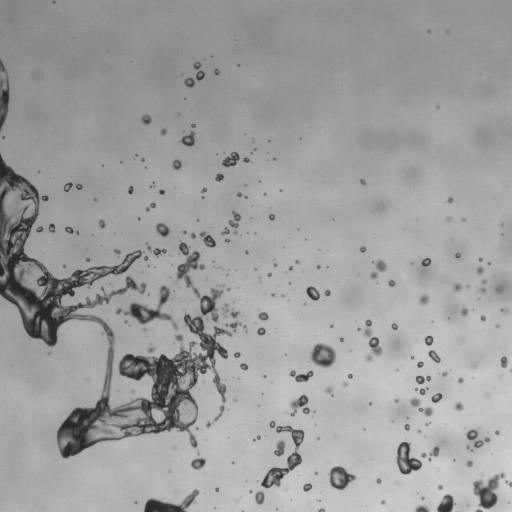droplet: (395, 440, 422, 474), (308, 342, 336, 368), (328, 466, 356, 490), (285, 394, 310, 417), (435, 493, 456, 511), (369, 259, 387, 279), (221, 151, 239, 167), (420, 446, 439, 461), (178, 131, 195, 146), (273, 438, 285, 457), (154, 222, 169, 237), (306, 286, 320, 301), (190, 457, 205, 470), (428, 350, 441, 363), (254, 490, 265, 505), (477, 278, 487, 294), (257, 307, 268, 321), (414, 386, 429, 395), (418, 293, 429, 305), (431, 393, 443, 404), (172, 159, 183, 170), (206, 178, 217, 189), (154, 236, 165, 247), (193, 238, 204, 249), (187, 240, 198, 251), (167, 243, 178, 254), (365, 249, 376, 260), (111, 254, 122, 265), (52, 268, 63, 279), (60, 268, 71, 279), (378, 270, 389, 281), (213, 273, 224, 284), (114, 274, 125, 285), (263, 278, 274, 289), (86, 286, 97, 297), (126, 289, 137, 300), (60, 294, 71, 305), (135, 294, 146, 305), (91, 304, 102, 315), (188, 306, 199, 317), (172, 310, 183, 321), (467, 310, 478, 321), (203, 323, 214, 334), (55, 324, 66, 335), (178, 324, 189, 335), (215, 334, 226, 345), (326, 337, 337, 348), (311, 363, 322, 374), (297, 381, 308, 392), (419, 395, 430, 406), (84, 398, 95, 409), (143, 431, 154, 442), (281, 431, 292, 442), (283, 443, 294, 454), (186, 448, 197, 459), (276, 456, 287, 467), (158, 492, 169, 503), (431, 494, 442, 505), (171, 495, 182, 506), (141, 114, 151, 125), (421, 257, 431, 267), (453, 282, 463, 292), (146, 342, 155, 353), (324, 386, 333, 397), (257, 327, 269, 335), (500, 356, 508, 368), (220, 226, 230, 235), (424, 335, 433, 345), (454, 401, 463, 411), (302, 483, 312, 492), (214, 173, 223, 182), (494, 285, 503, 294), (187, 68, 196, 77), (204, 69, 213, 78), (3, 157, 12, 166), (219, 165, 228, 174), (152, 193, 161, 202), (54, 223, 63, 232), (182, 234, 191, 243), (22, 245, 31, 254), (177, 254, 186, 263), (78, 261, 87, 270), (186, 267, 195, 276), (485, 282, 494, 291), (468, 287, 477, 296), (213, 298, 222, 307), (148, 301, 157, 310), (159, 304, 168, 313), (128, 315, 137, 324), (191, 333, 200, 342), (320, 336, 329, 345), (112, 353, 121, 362), (423, 356, 432, 365), (435, 362, 444, 371), (418, 367, 427, 376), (204, 369, 213, 378), (332, 384, 341, 393), (113, 248, 121, 258), (443, 196, 453, 203), (48, 223, 55, 233), (461, 306, 468, 316), (134, 505, 145, 511), (184, 505, 195, 511), (254, 505, 265, 511), (377, 505, 388, 511), (476, 266, 484, 274), (240, 362, 248, 370), (98, 219, 105, 228), (500, 307, 509, 314), (438, 371, 448, 377), (160, 127, 167, 135), (388, 279, 395, 287), (457, 337, 465, 344), (272, 258, 278, 267), (391, 323, 398, 330), (470, 361, 477, 368), (466, 460, 473, 467), (7, 96, 14, 103), (3, 117, 10, 124), (236, 158, 243, 165), (13, 167, 20, 174), (154, 183, 161, 190), (139, 210, 146, 217), (31, 221, 38, 228), (42, 222, 49, 229), (139, 244, 146, 251), (147, 251, 154, 258), (36, 255, 43, 262), (381, 255, 388, 262), (479, 260, 486, 267), (204, 262, 211, 269), (385, 262, 392, 269), (266, 264, 273, 271), (369, 264, 376, 271), (170, 267, 177, 274), (123, 269, 130, 276), (376, 270, 383, 277), (119, 271, 126, 278), (480, 271, 487, 278), (476, 273, 483, 280), (178, 277, 185, 284), (94, 278, 101, 285), (191, 279, 198, 286), (185, 286, 192, 293), (126, 287, 133, 294), (317, 287, 324, 294), (456, 289, 463, 296), (413, 293, 420, 300), (89, 294, 96, 301), (109, 295, 116, 302), (193, 297, 200, 304), (3, 299, 10, 306), (426, 299, 433, 306), (417, 303, 424, 310), (123, 304, 130, 311), (75, 307, 82, 314), (234, 315, 241, 322), (15, 316, 22, 323), (152, 316, 159, 323), (227, 316, 234, 323), (16, 319, 23, 326), (83, 319, 90, 326), (163, 319, 170, 326), (259, 320, 266, 327), (107, 321, 114, 328), (216, 321, 223, 328), (359, 322, 366, 329), (95, 323, 102, 330), (169, 328, 176, 335), (20, 329, 27, 336), (362, 336, 369, 343), (35, 337, 42, 344), (49, 344, 56, 351), (306, 345, 313, 352), (364, 345, 371, 352), (226, 349, 233, 356), (212, 350, 219, 357), (153, 351, 160, 358), (100, 352, 107, 359), (166, 352, 173, 359), (371, 354, 378, 361), (236, 356, 243, 363), (100, 362, 107, 369), (111, 362, 118, 369), (329, 362, 336, 369), (196, 372, 203, 379), (97, 376, 104, 383), (299, 380, 306, 387), (188, 388, 195, 395), (425, 390, 432, 397), (413, 391, 420, 398), (428, 401, 435, 408), (59, 414, 66, 421), (420, 425, 427, 432), (170, 426, 177, 433), (488, 432, 495, 439), (425, 446, 432, 453), (81, 447, 88, 454), (296, 447, 303, 454), (54, 450, 61, 457), (467, 453, 474, 460), (67, 454, 74, 461), (420, 457, 427, 464), (331, 460, 338, 467), (471, 474, 478, 481), (497, 477, 504, 484), (346, 481, 353, 488), (467, 484, 474, 491), (492, 487, 499, 494), (440, 488, 447, 495), (473, 495, 480, 502), (416, 499, 423, 506), (138, 502, 145, 509), (324, 289, 330, 297), (233, 352, 241, 358), (506, 358, 511, 367), (506, 471, 511, 480), (428, 506, 437, 511), (485, 506, 494, 511), (242, 157, 249, 163), (149, 181, 155, 188), (268, 214, 275, 220), (36, 226, 43, 232), (190, 232, 196, 239), (359, 246, 366, 252), (416, 361, 423, 367), (341, 381, 348, 387), (404, 424, 410, 431), (282, 484, 288, 491), (128, 186, 133, 194), (360, 179, 366, 185), (480, 315, 486, 321), (347, 373, 353, 379), (457, 377, 463, 383), (437, 484, 443, 490), (214, 68, 219, 75), (200, 187, 207, 192), (158, 189, 165, 194), (465, 284, 470, 291), (270, 292, 277, 297), (214, 486, 219, 493), (236, 192, 242, 197), (446, 216, 452, 221), (454, 253, 460, 258), (294, 259, 300, 264), (266, 272, 272, 277), (376, 478, 381, 484), (380, 500, 386, 505), (408, 507, 415, 511), (481, 507, 488, 511), (85, 257, 90, 262), (478, 257, 483, 262), (288, 265, 293, 270), (130, 389, 135, 394), (425, 421, 430, 426), (494, 430, 499, 435), (1, 59, 6, 64), (218, 68, 223, 73), (191, 74, 196, 79), (193, 78, 198, 83), (199, 78, 204, 83), (8, 81, 13, 86), (186, 86, 191, 91), (150, 116, 155, 121), (144, 123, 149, 128), (161, 123, 166, 128), (155, 128, 160, 133), (165, 130, 170, 135), (185, 130, 190, 135), (160, 134, 165, 139), (177, 134, 182, 139), (192, 134, 197, 139), (193, 140, 198, 145), (182, 144, 187, 149), (246, 153, 251, 158), (220, 154, 225, 159), (238, 154, 243, 159), (135, 156, 140, 161), (169, 156, 174, 161), (178, 156, 183, 161), (140, 161, 145, 166), (167, 161, 172, 166), (179, 165, 184, 170), (227, 165, 232, 170), (172, 168, 177, 173), (211, 172, 216, 177), (364, 177, 369, 182), (29, 179, 34, 184), (33, 183, 38, 188), (159, 184, 164, 189), (70, 185, 75, 190), (123, 186, 128, 191), (235, 187, 240, 192), (37, 191, 42, 196), (448, 192, 453, 197), (442, 195, 447, 200), (452, 195, 457, 200), (38, 199, 43, 204), (450, 201, 455, 206), (446, 202, 451, 207), (149, 207, 154, 212), (37, 208, 42, 213), (235, 208, 240, 213), (267, 209, 272, 214), (228, 214, 233, 219), (155, 218, 160, 223), (159, 218, 164, 223), (104, 220, 109, 225), (151, 222, 156, 227), (165, 222, 170, 227), (94, 223, 99, 228), (228, 226, 233, 231), (100, 227, 105, 232), (248, 228, 253, 233), (64, 231, 69, 236), (167, 231, 172, 236), (194, 231, 199, 236), (248, 231, 253, 236), (156, 233, 161, 238), (223, 233, 228, 238), (211, 234, 216, 239), (174, 242, 179, 247), (115, 244, 120, 249), (150, 245, 155, 250), (174, 246, 179, 251), (187, 249, 192, 254), (120, 253, 125, 258), (420, 254, 425, 259), (138, 255, 143, 260), (135, 257, 140, 262), (196, 259, 201, 264), (142, 260, 147, 265), (42, 261, 47, 266), (96, 261, 101, 266), (131, 261, 136, 266), (290, 261, 295, 266), (477, 261, 482, 266), (320, 264, 325, 269), (283, 265, 288, 270), (471, 267, 476, 272), (108, 272, 113, 277), (391, 275, 396, 280), (370, 278, 375, 283), (383, 280, 388, 285), (164, 282, 169, 287), (460, 282, 465, 287), (478, 282, 483, 287), (82, 283, 87, 288), (449, 283, 454, 288), (483, 283, 488, 288), (113, 285, 118, 290), (391, 285, 396, 290), (71, 286, 76, 291), (221, 286, 226, 291), (144, 287, 149, 292), (459, 287, 464, 292), (105, 289, 110, 294), (98, 291, 103, 296), (199, 291, 204, 296), (329, 291, 334, 296), (190, 292, 195, 297), (319, 292, 324, 297), (478, 292, 483, 297), (265, 293, 270, 298), (304, 294, 309, 299), (270, 296, 275, 301), (80, 299, 85, 304), (9, 302, 14, 307), (466, 305, 471, 310), (457, 306, 462, 311), (466, 310, 471, 315), (225, 311, 230, 316), (179, 312, 184, 317), (189, 313, 194, 318), (484, 314, 489, 319), (100, 315, 105, 320), (369, 316, 374, 321), (369, 324, 374, 329), (184, 325, 189, 330), (235, 325, 240, 330), (358, 329, 363, 334), (112, 330, 117, 335), (170, 335, 175, 340), (420, 339, 425, 344), (175, 340, 180, 345), (377, 341, 382, 346), (104, 343, 109, 348), (183, 345, 188, 350), (426, 345, 431, 350), (175, 348, 180, 353), (126, 349, 131, 354), (132, 351, 137, 356), (361, 357, 366, 362), (413, 358, 418, 363), (496, 359, 501, 364), (366, 361, 371, 366), (285, 368, 290, 373), (302, 369, 307, 374), (294, 370, 299, 375), (217, 372, 222, 377), (458, 372, 463, 377), (453, 375, 458, 380), (290, 376, 295, 381), (307, 376, 312, 381), (345, 377, 350, 382), (219, 378, 224, 383), (462, 378, 467, 383), (194, 381, 199, 386), (326, 381, 331, 386), (210, 382, 215, 387), (456, 382, 461, 387), (417, 383, 422, 388), (320, 385, 325, 390), (331, 388, 336, 393), (223, 391, 228, 396), (305, 392, 310, 397), (216, 393, 221, 398), (294, 394, 299, 399), (95, 395, 100, 400), (437, 399, 442, 404), (217, 400, 222, 405), (451, 400, 456, 405), (460, 400, 465, 405), (223, 402, 228, 407), (304, 402, 309, 407), (406, 402, 411, 407), (297, 406, 302, 411), (413, 406, 418, 411), (288, 407, 293, 412), (222, 409, 227, 414), (455, 409, 460, 414), (308, 410, 313, 415), (419, 411, 424, 416), (426, 415, 431, 420), (208, 416, 213, 421), (274, 421, 279, 426), (280, 421, 285, 426), (408, 422, 413, 427), (291, 424, 296, 429), (470, 424, 475, 429), (188, 425, 193, 430), (162, 429, 167, 434), (182, 429, 187, 434), (462, 429, 467, 434), (142, 432, 147, 437), (150, 432, 155, 437), (418, 432, 423, 437), (126, 435, 131, 440), (302, 435, 307, 440), (475, 435, 480, 440), (194, 436, 199, 441), (400, 437, 405, 442), (404, 437, 409, 442), (104, 439, 109, 444), (469, 439, 474, 444), (93, 442, 98, 447), (196, 442, 201, 447), (393, 443, 398, 448), (408, 444, 413, 449), (188, 445, 193, 450), (272, 445, 277, 450), (437, 449, 442, 454), (392, 451, 397, 456), (198, 453, 203, 458), (299, 453, 304, 458), (193, 454, 198, 459), (416, 455, 421, 460), (430, 455, 435, 460), (461, 460, 466, 465), (472, 460, 477, 465), (203, 461, 208, 466), (188, 465, 193, 470), (265, 465, 270, 470), (293, 465, 298, 470), (326, 466, 331, 471), (394, 466, 399, 471), (466, 466, 471, 471), (417, 467, 422, 472), (345, 468, 350, 473), (410, 469, 415, 474), (495, 469, 500, 474), (402, 473, 407, 478), (325, 474, 330, 479), (258, 476, 263, 481), (279, 477, 284, 482), (371, 477, 376, 482), (380, 477, 385, 482), (325, 480, 330, 485), (271, 483, 276, 488), (432, 484, 437, 489), (195, 485, 200, 490), (259, 485, 264, 490), (333, 487, 338, 492), (186, 489, 191, 494), (448, 490, 453, 495), (250, 491, 255, 496), (418, 491, 423, 496), (193, 495, 198, 500), (452, 497, 457, 502), (262, 498, 267, 503), (189, 502, 194, 507), (256, 503, 261, 508), (317, 503, 322, 508), (144, 255, 148, 261), (261, 374, 267, 378), (171, 445, 177, 449), (318, 508, 325, 511), (0, 294, 3, 301), (190, 123, 195, 127), (140, 157, 144, 162), (244, 195, 249, 199), (93, 197, 97, 202), (461, 217, 466, 221), (182, 230, 187, 234), (225, 238, 230, 242), (316, 264, 320, 269), (226, 287, 231, 291), (189, 297, 193, 302), (142, 328, 147, 332), (339, 337, 343, 342), (498, 374, 503, 378), (485, 392, 489, 397), (416, 429, 421, 433), (427, 29, 431, 33), (253, 147, 257, 151), (134, 153, 138, 157), (263, 192, 267, 196), (410, 261, 414, 265), (487, 261, 491, 265), (147, 263, 151, 267), (62, 264, 66, 268), (302, 302, 306, 306), (495, 324, 499, 328), (47, 351, 51, 355), (410, 355, 414, 359), (394, 398, 398, 402), (195, 426, 199, 430), (314, 471, 318, 475), (421, 496, 425, 500), (500, 222, 503, 227), (316, 435, 319, 440), (508, 308, 511, 313), (445, 30, 449, 33), (436, 105, 439, 109), (177, 112, 180, 116), (272, 157, 276, 160), (137, 217, 141, 220), (196, 218, 199, 222), (245, 250, 248, 254), (471, 307, 474, 311), (329, 324, 333, 327), (201, 379, 204, 383), (116, 389, 119, 393), (233, 398, 237, 401), (368, 402, 372, 405), (362, 427, 366, 430), (230, 461, 234, 464), (168, 469, 171, 473), (249, 489, 252, 493), (235, 499, 239, 502), (134, 500, 137, 504), (467, 503, 470, 507), (252, 138, 254, 143), (316, 499, 321, 501), (0, 187, 2, 192), (52, 0, 55, 3), (299, 137, 302, 140), (267, 139, 270, 142), (144, 166, 147, 169), (201, 196, 204, 199), (249, 216, 252, 219), (246, 231, 249, 234), (91, 233, 94, 236), (500, 232, 503, 235), (170, 263, 173, 266), (254, 267, 257, 270), (477, 297, 480, 300), (254, 321, 257, 324), (348, 349, 351, 352), (396, 368, 399, 371), (257, 404, 260, 407), (313, 410, 316, 413), (406, 416, 409, 419), (391, 419, 394, 422), (452, 458, 455, 461), (275, 507, 278, 510), (52, 3, 55, 6), (426, 26, 429, 29), (426, 32, 429, 35), (236, 60, 239, 63), (239, 64, 242, 67), (236, 66, 239, 69), (195, 68, 198, 71), (212, 72, 215, 75), (215, 74, 218, 77), (183, 94, 186, 97), (180, 96, 183, 99), (183, 99, 186, 102), (192, 120, 195, 123), (195, 123, 198, 126), (191, 127, 194, 130), (4, 135, 7, 138), (267, 136, 270, 139), (253, 138, 256, 141), (268, 141, 271, 144), (134, 150, 137, 153), (252, 150, 255, 153), (273, 154, 276, 157), (143, 155, 146, 158), (269, 156, 272, 159), (144, 158, 147, 161), (116, 160, 119, 163), (180, 160, 183, 163), (99, 161, 102, 164), (243, 161, 246, 164), (119, 163, 122, 166), (103, 164, 106, 167), (146, 165, 149, 168), (100, 166, 103, 169), (35, 167, 38, 170), (67, 179, 70, 182), (219, 179, 222, 182), (64, 180, 67, 183), (243, 180, 246, 183), (79, 181, 82, 184), (149, 182, 152, 185), (257, 182, 260, 185), (358, 182, 361, 185), (203, 184, 206, 187), (279, 185, 282, 188), (199, 186, 202, 189), (60, 187, 63, 190), (80, 187, 83, 190), (276, 187, 279, 190), (206, 188, 209, 191), (262, 189, 265, 192), (62, 190, 65, 193), (278, 191, 281, 194), (201, 192, 204, 195), (128, 193, 131, 196), (159, 193, 162, 196), (241, 193, 244, 196), (95, 195, 98, 198), (235, 195, 238, 198), (263, 195, 266, 198), (90, 197, 93, 200), (201, 198, 204, 201), (244, 198, 247, 201), (46, 199, 49, 202), (151, 199, 154, 202), (92, 200, 95, 203), (155, 202, 158, 205), (142, 207, 145, 210), (195, 215, 198, 218), (274, 215, 277, 218), (100, 216, 103, 219), (198, 216, 201, 219), (139, 218, 142, 221), (135, 219, 138, 222), (269, 219, 272, 222), (49, 220, 52, 223), (197, 220, 200, 223), (53, 223, 56, 226), (66, 223, 69, 226), (54, 226, 57, 229), (182, 227, 185, 230), (253, 228, 256, 231), (78, 230, 81, 233), (38, 231, 41, 234), (48, 231, 51, 234), (72, 231, 75, 234), (236, 232, 239, 235), (503, 232, 506, 235), (305, 235, 308, 238), (301, 236, 304, 239), (224, 241, 227, 244), (358, 244, 361, 247), (159, 246, 162, 249), (210, 246, 213, 249), (134, 247, 137, 250), (165, 247, 168, 250), (129, 249, 132, 252), (247, 249, 250, 252), (458, 250, 461, 253), (179, 251, 182, 254), (242, 251, 245, 254), (362, 251, 365, 254), (452, 251, 455, 254), (164, 252, 167, 255), (247, 252, 250, 255), (425, 254, 428, 257), (479, 254, 482, 257), (294, 256, 297, 259), (213, 257, 216, 260), (455, 257, 458, 260), (298, 258, 301, 261), (475, 258, 478, 261), (146, 259, 149, 262), (274, 259, 277, 262), (430, 260, 433, 263), (316, 261, 319, 264), (64, 262, 67, 265), (210, 262, 213, 265), (213, 262, 216, 265), (270, 262, 273, 265), (326, 262, 329, 265), (490, 262, 493, 265), (428, 263, 431, 266), (59, 264, 62, 267), (149, 264, 152, 267), (254, 264, 257, 267), (275, 265, 278, 268), (313, 265, 316, 268), (328, 265, 331, 268), (202, 268, 205, 271), (217, 268, 220, 271), (291, 268, 294, 271), (71, 269, 74, 272), (251, 269, 254, 272), (255, 269, 258, 272), (287, 269, 290, 272), (224, 270, 227, 273), (227, 270, 230, 273), (271, 272, 274, 275), (227, 275, 230, 278), (265, 275, 268, 278), (287, 278, 290, 281), (220, 281, 223, 284), (285, 282, 288, 285), (290, 282, 293, 285), (225, 284, 228, 287), (229, 288, 232, 291), (269, 290, 272, 293), (278, 291, 281, 294), (282, 291, 285, 294), (325, 295, 328, 298), (279, 296, 282, 299), (283, 296, 286, 299), (497, 306, 500, 309), (259, 309, 262, 312), (119, 311, 122, 314), (499, 311, 502, 314), (482, 312, 485, 315), (267, 313, 270, 316), (444, 315, 447, 318), (477, 317, 480, 320), (482, 320, 485, 323), (329, 321, 332, 324), (241, 322, 244, 325), (124, 323, 127, 326), (396, 323, 399, 326), (329, 327, 332, 330), (389, 327, 392, 330), (396, 327, 399, 330), (264, 328, 267, 331), (393, 329, 396, 332), (103, 332, 106, 335), (427, 332, 430, 335), (262, 333, 265, 336), (424, 333, 427, 336), (259, 334, 262, 337), (341, 334, 344, 337), (343, 337, 346, 340), (336, 338, 339, 341), (432, 338, 435, 341), (340, 341, 343, 344), (281, 352, 284, 355), (286, 352, 289, 355), (410, 352, 413, 355), (436, 352, 439, 355), (502, 353, 505, 356), (499, 354, 502, 357), (283, 355, 286, 358), (407, 355, 410, 358), (438, 361, 441, 364), (240, 368, 243, 371), (243, 369, 246, 372), (348, 370, 351, 373), (263, 371, 266, 374), (446, 373, 449, 376), (438, 374, 441, 377), (233, 376, 236, 379), (351, 376, 354, 379), (262, 377, 265, 380), (412, 377, 415, 380), (429, 378, 432, 381), (440, 391, 443, 394), (327, 393, 330, 396), (234, 395, 237, 398), (441, 395, 444, 398), (392, 396, 395, 399), (368, 398, 371, 401), (397, 399, 400, 402), (371, 400, 374, 403), (365, 401, 368, 404), (393, 401, 396, 404), (197, 408, 200, 411), (309, 408, 312, 411), (217, 409, 220, 412), (287, 413, 290, 416), (218, 416, 221, 419), (271, 417, 274, 420), (204, 420, 207, 423), (405, 420, 408, 423), (428, 423, 431, 426), (363, 424, 366, 427), (208, 425, 211, 428), (267, 425, 270, 428), (359, 426, 362, 429), (401, 426, 404, 429), (495, 427, 498, 430), (408, 428, 411, 431), (362, 430, 365, 433), (498, 430, 501, 433), (259, 433, 262, 436), (253, 435, 256, 438), (259, 436, 262, 439), (313, 436, 316, 439), (319, 436, 322, 439), (249, 438, 252, 441), (315, 439, 318, 442), (292, 443, 295, 446), (273, 454, 276, 457), (454, 456, 457, 459), (449, 457, 452, 460), (230, 458, 233, 461), (234, 461, 237, 464), (229, 463, 232, 466), (315, 468, 318, 471), (311, 471, 314, 474), (314, 474, 317, 477), (305, 480, 308, 483), (310, 482, 313, 485), (300, 483, 303, 486), (377, 483, 380, 486), (212, 485, 215, 488), (218, 488, 221, 491), (300, 488, 303, 491), (416, 488, 419, 491), (212, 489, 215, 492), (246, 490, 249, 493), (316, 496, 319, 499), (320, 497, 323, 500), (379, 497, 382, 500), (384, 499, 387, 502), (131, 500, 134, 503), (377, 500, 380, 503), (212, 503, 215, 506), (379, 503, 382, 506), (382, 503, 385, 506), (215, 505, 218, 508), (240, 506, 243, 509), (37, 170, 41, 172), (168, 276, 172, 278), (237, 64, 240, 66), (184, 97, 186, 100), (250, 152, 253, 154), (120, 160, 122, 163), (258, 180, 261, 182), (244, 184, 247, 186), (279, 189, 282, 191), (254, 232, 256, 235), (304, 238, 306, 241), (153, 266, 156, 268), (326, 266, 329, 268), (288, 282, 291, 284), (236, 286, 239, 288), (147, 293, 149, 296), (263, 293, 266, 295), (287, 299, 290, 301), (231, 301, 234, 303), (447, 317, 450, 319), (431, 320, 433, 323), (284, 353, 287, 355), (261, 392, 263, 395), (424, 435, 426, 438), (205, 438, 207, 441), (507, 501, 510, 503), (509, 499, 511, 502), (509, 502, 511, 505), (213, 509, 216, 511), (273, 509, 276, 511), (276, 509, 279, 511), (315, 509, 318, 511), (324, 509, 327, 511), (2, 136, 4, 138), (216, 153, 218, 155), (101, 164, 103, 166), (251, 204, 253, 206), (332, 218, 334, 220), (297, 228, 299, 230), (237, 377, 239, 379), (227, 436, 229, 438), (290, 498, 292, 500), (49, 0, 52, 1), (54, 0, 57, 1), (0, 135, 1, 138), (211, 55, 212, 57), (183, 130, 184, 132), (318, 248, 319, 250), (449, 369, 451, 370), (472, 377, 473, 379), (314, 424, 316, 425), (445, 424, 447, 425), (257, 480, 258, 482), (214, 507, 215, 509)
ligament: (260, 420, 305, 489), (357, 319, 382, 362), (0, 59, 11, 131), (184, 61, 204, 87), (408, 397, 433, 416), (145, 242, 172, 258), (288, 369, 313, 382), (228, 210, 241, 234), (198, 230, 216, 247), (64, 182, 83, 191), (414, 502, 432, 511), (64, 225, 79, 235), (415, 375, 431, 384), (211, 260, 224, 270), (145, 202, 156, 211), (252, 435, 261, 442), (466, 444, 473, 452), (124, 319, 131, 326), (279, 292, 287, 297), (225, 268, 229, 277), (258, 276, 261, 283), (109, 283, 113, 285), (509, 368, 511, 372), (244, 480, 247, 482), (416, 492, 419, 494), (241, 510, 244, 511), (455, 510, 458, 511), (376, 281, 377, 283)
